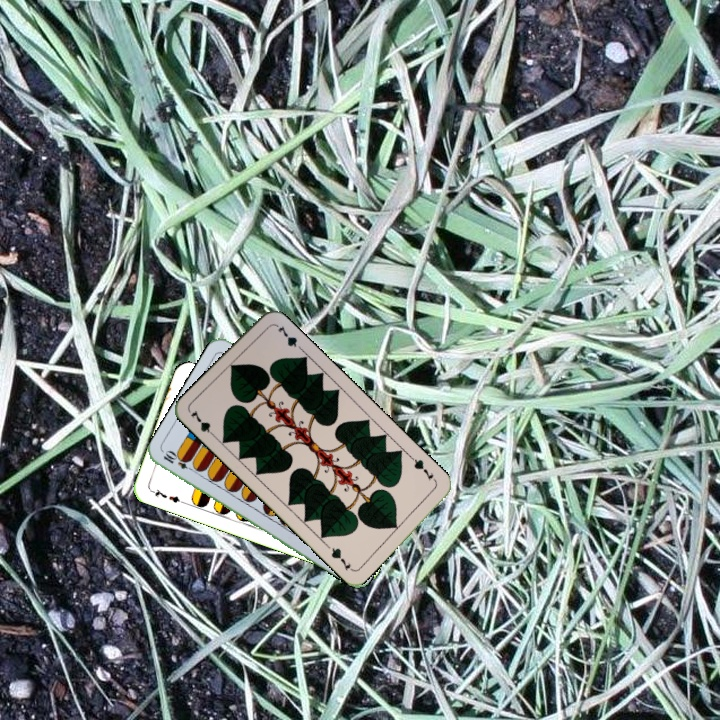E10: (159, 448, 198, 475)
E7: (147, 485, 187, 506)
G7: (187, 406, 219, 441), (407, 453, 436, 483)
